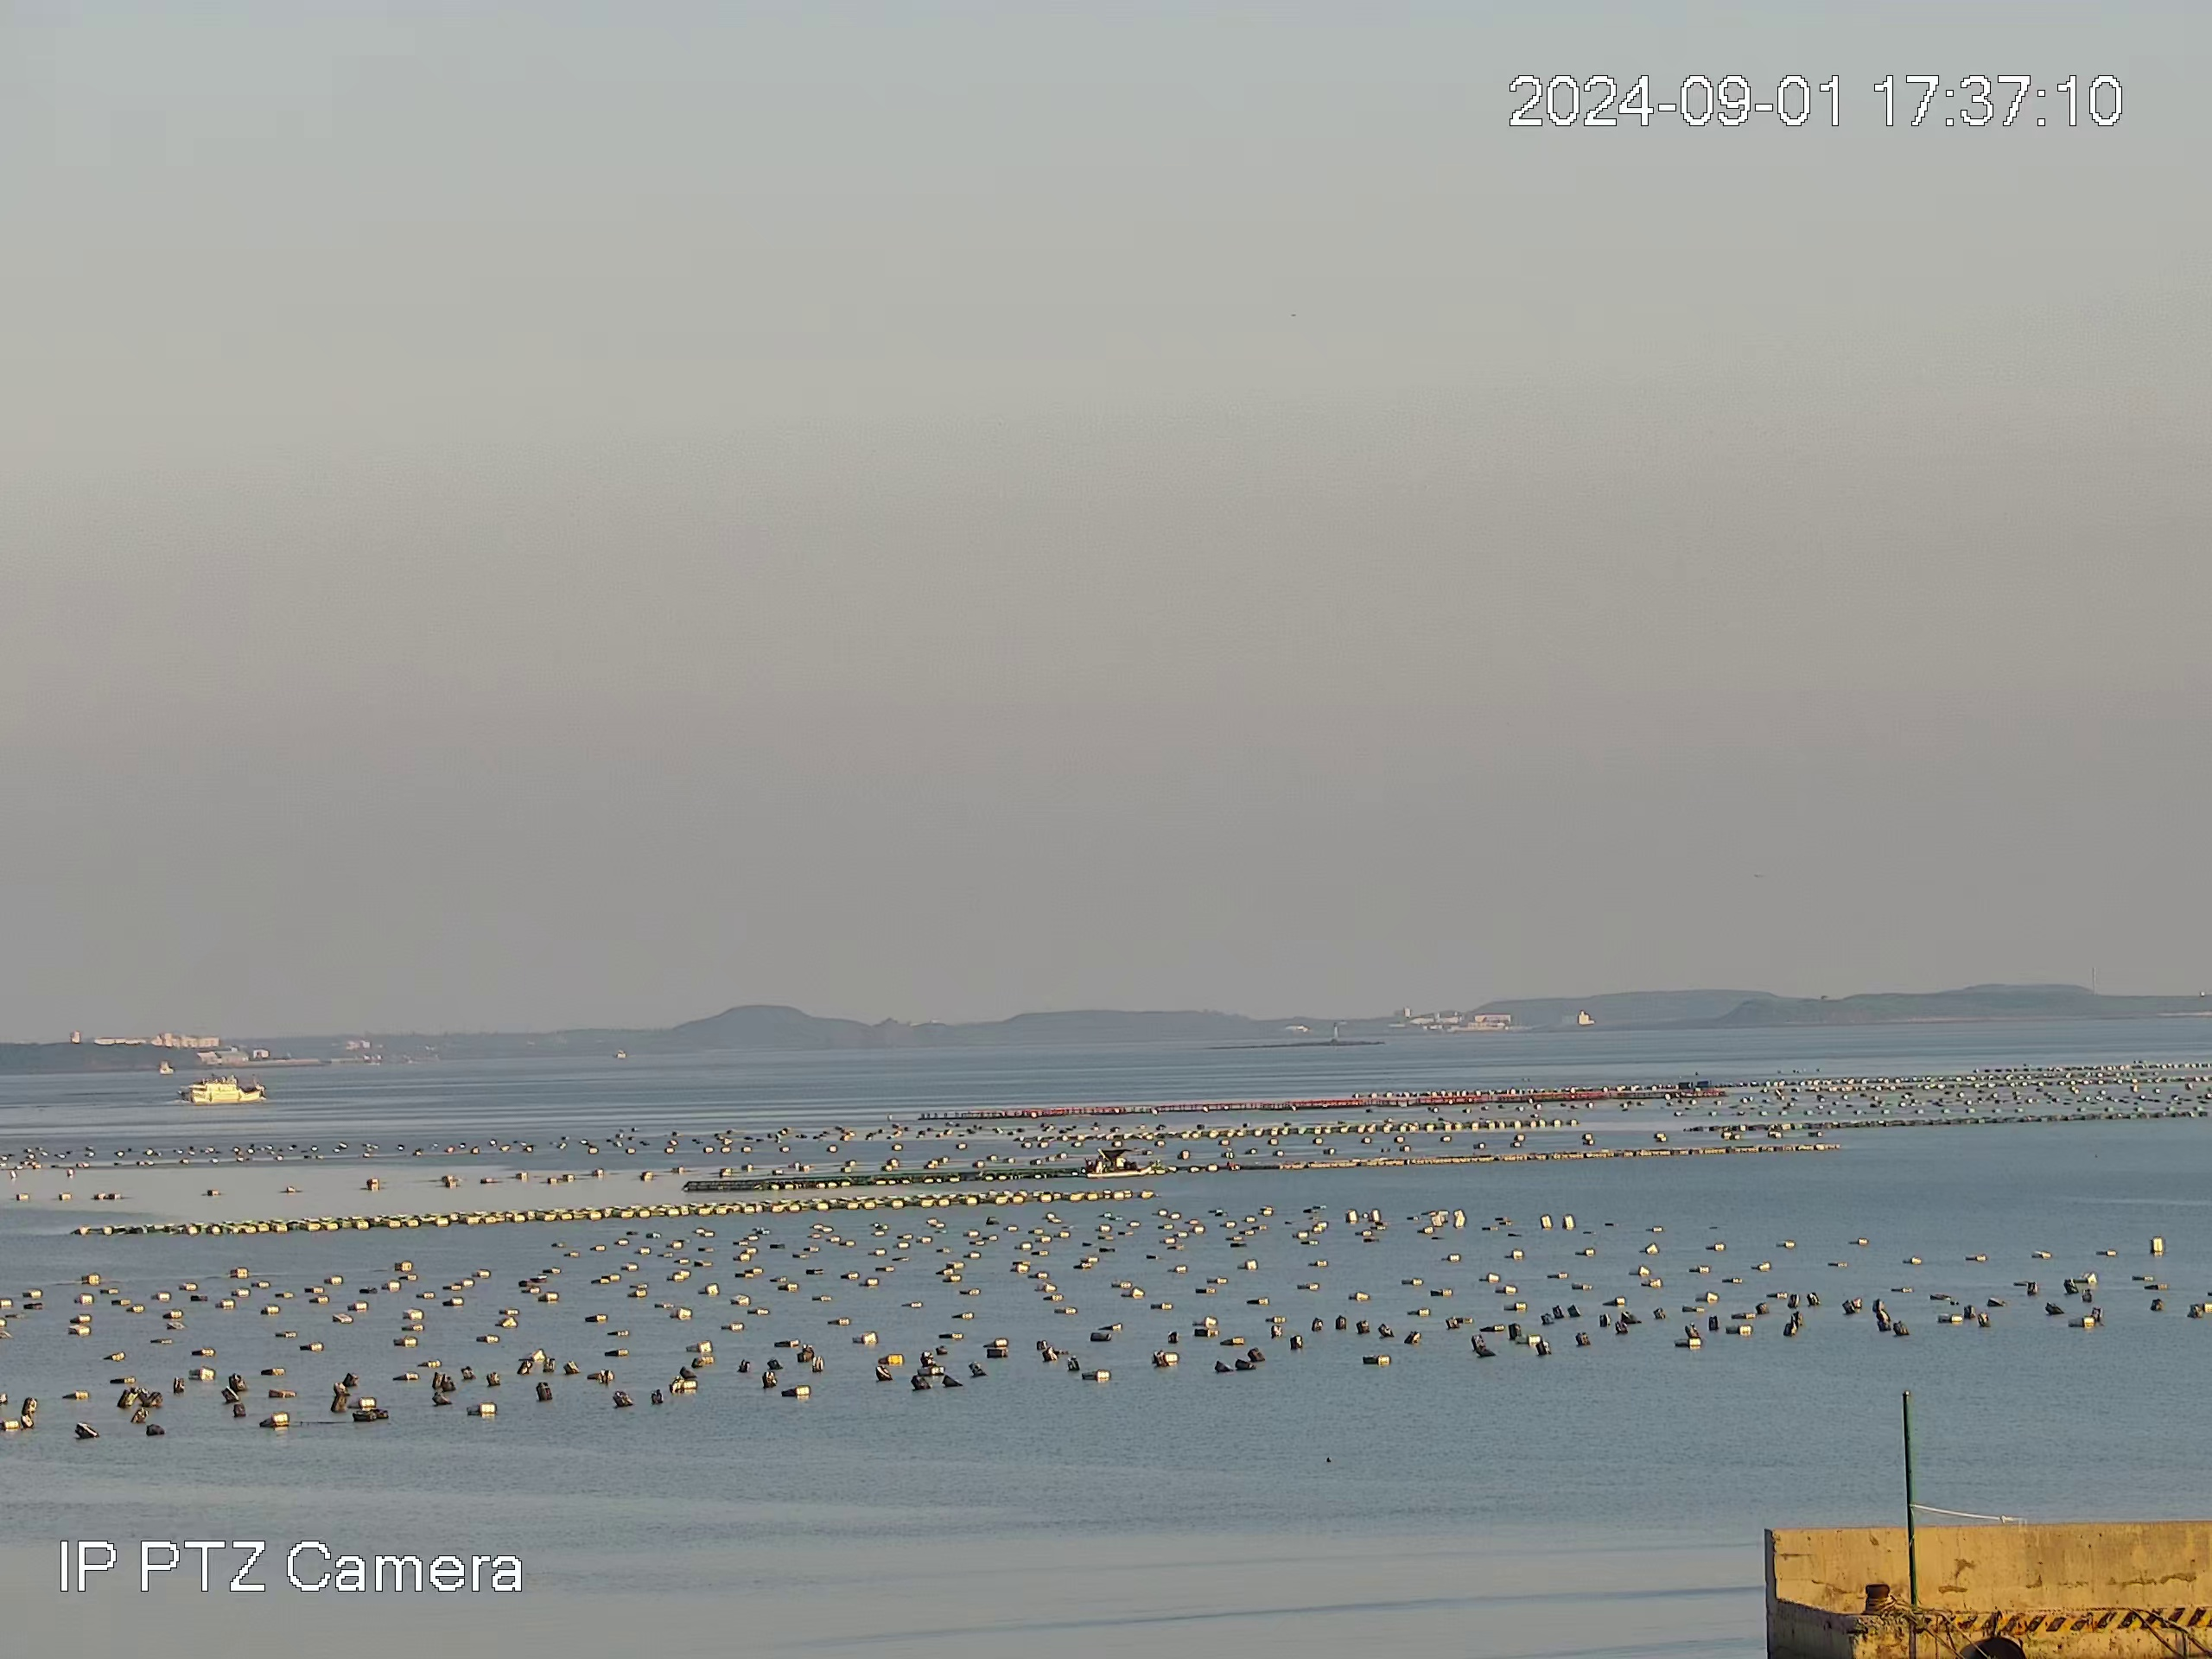boat: (185, 1075, 265, 1103), (1087, 1145, 1151, 1176)
